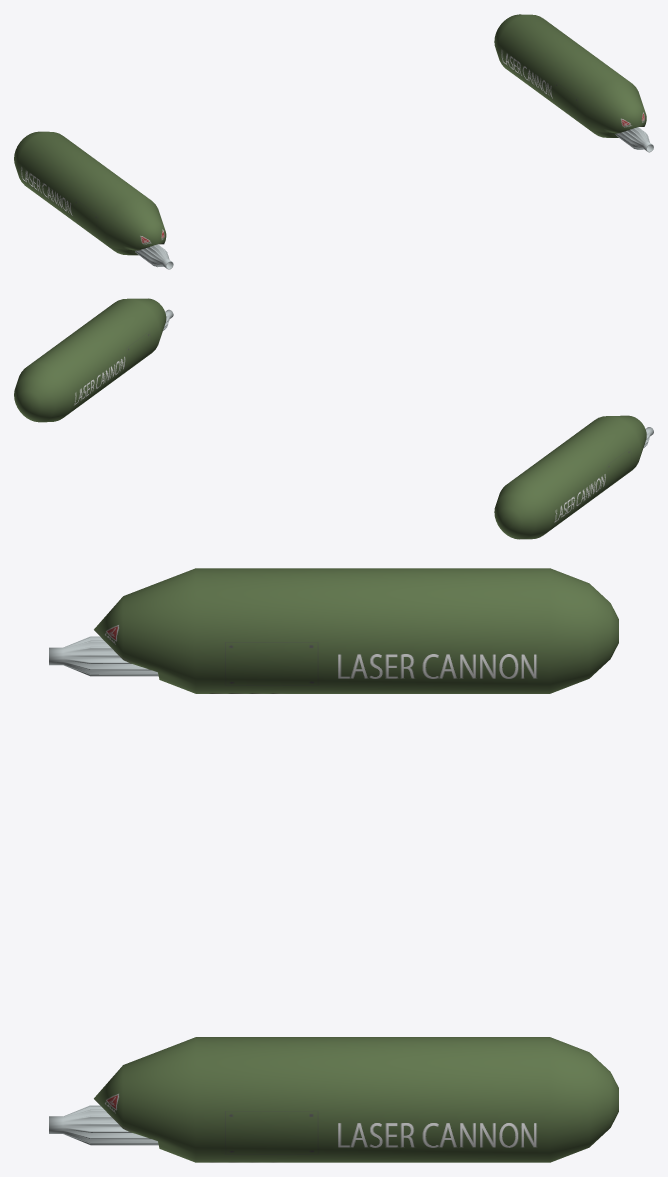
Rendered from Cannons2.fbx.
3 renders of one model, top to bottom at view 1: azimuth 30°, elevation 25°; view 2: azimuth 150°, elevation 25°; view 3: azimuth 270°, elevation 25°, orthographic. The views are drawn at different scales.
Parts seen in each view (by area): view 1: Gun secondary 2.003; view 2: Gun secondary 2.003; view 3: Gun secondary 2.003.
Boxes of the visible parts, x1,y1,x2,y2 form: Gun secondary 2.003: [14, 14, 653, 269]; Gun secondary 2.003: [14, 298, 653, 539]; Gun secondary 2.003: [49, 568, 618, 1162].
Size of the model in its own units: 982 by 100 by 453.
